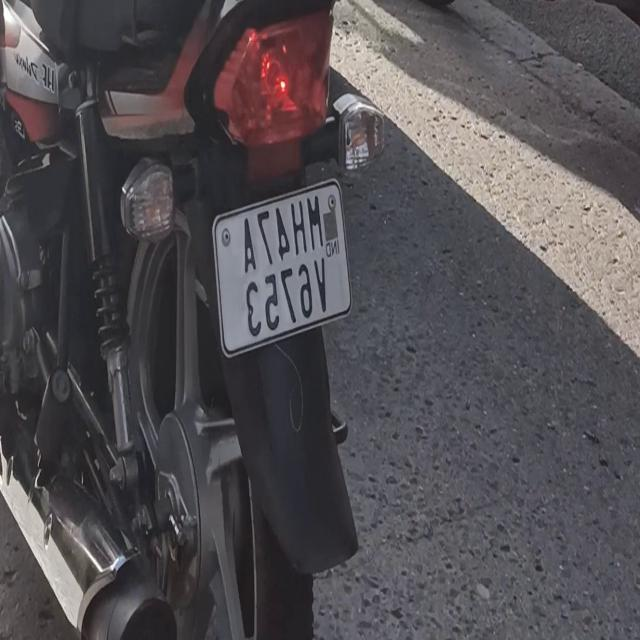license_plate: (208, 164, 354, 361)
